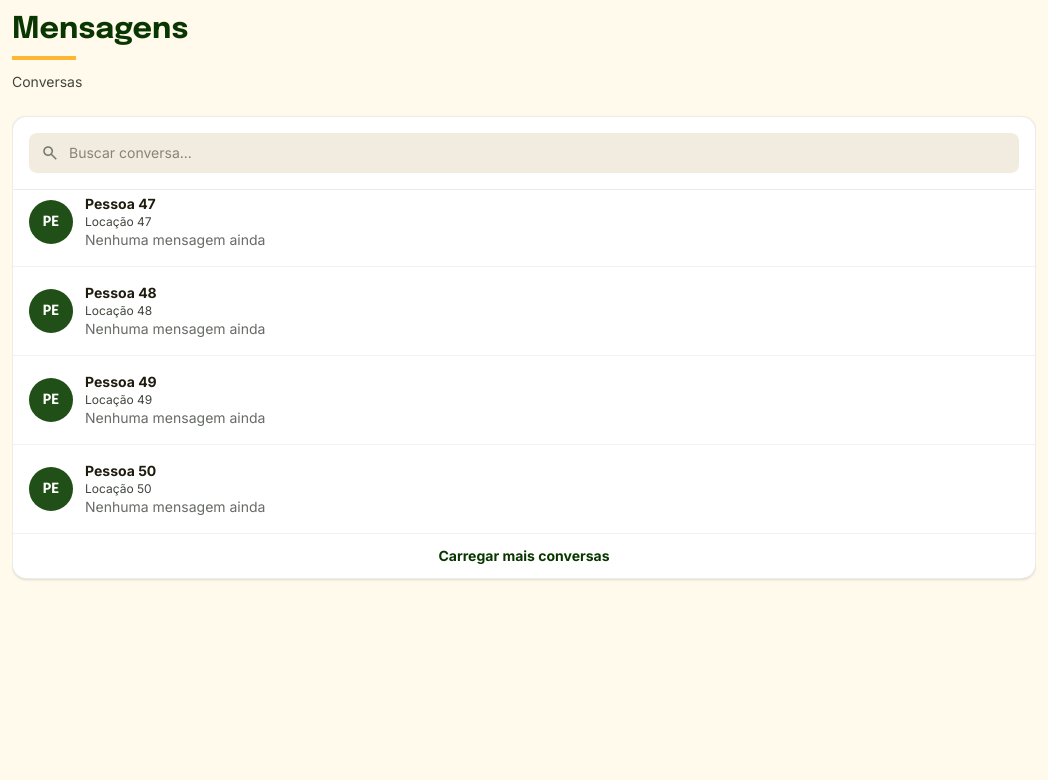
Test case: inbox › updates the dashboard panel while mounted and reaches threads past the first page
(page scrolled)
Expected: the text "Pessoa 60" is not shown
Click the button "Carregar mais conversas" at (524, 556), box [13,534,1035,578]
(page scrolled)
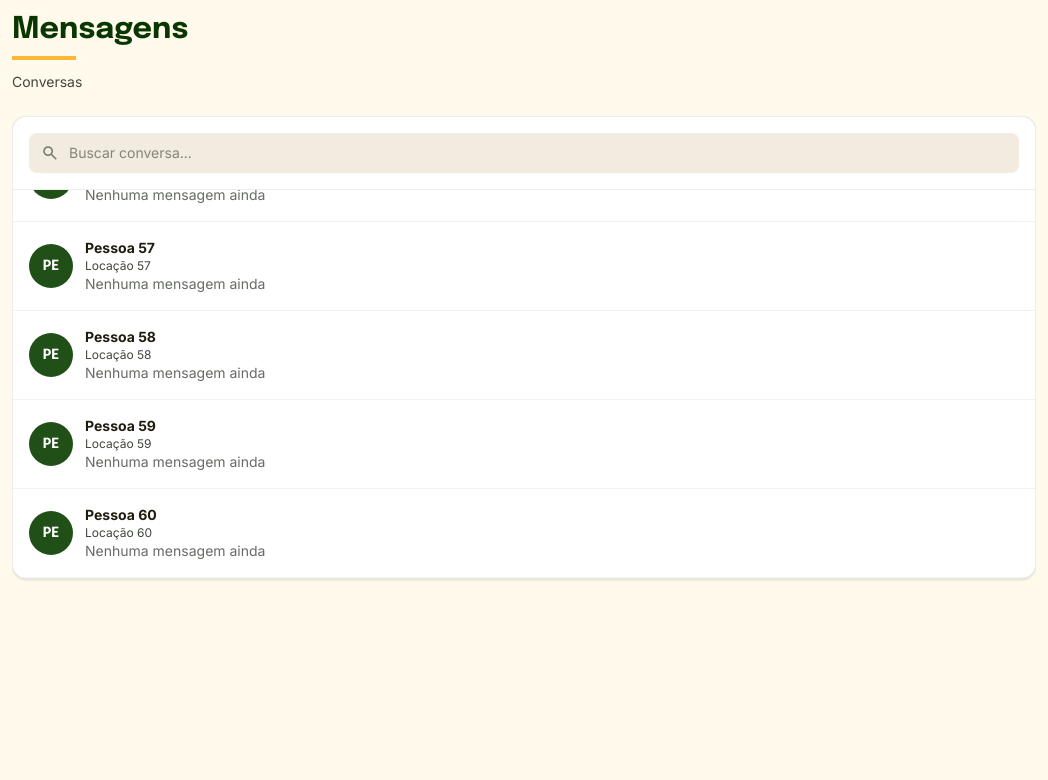
Result: the text "Pessoa 60" is shown at [85,505,157,525]
Result: the button "Carregar mais conversas" is gone
